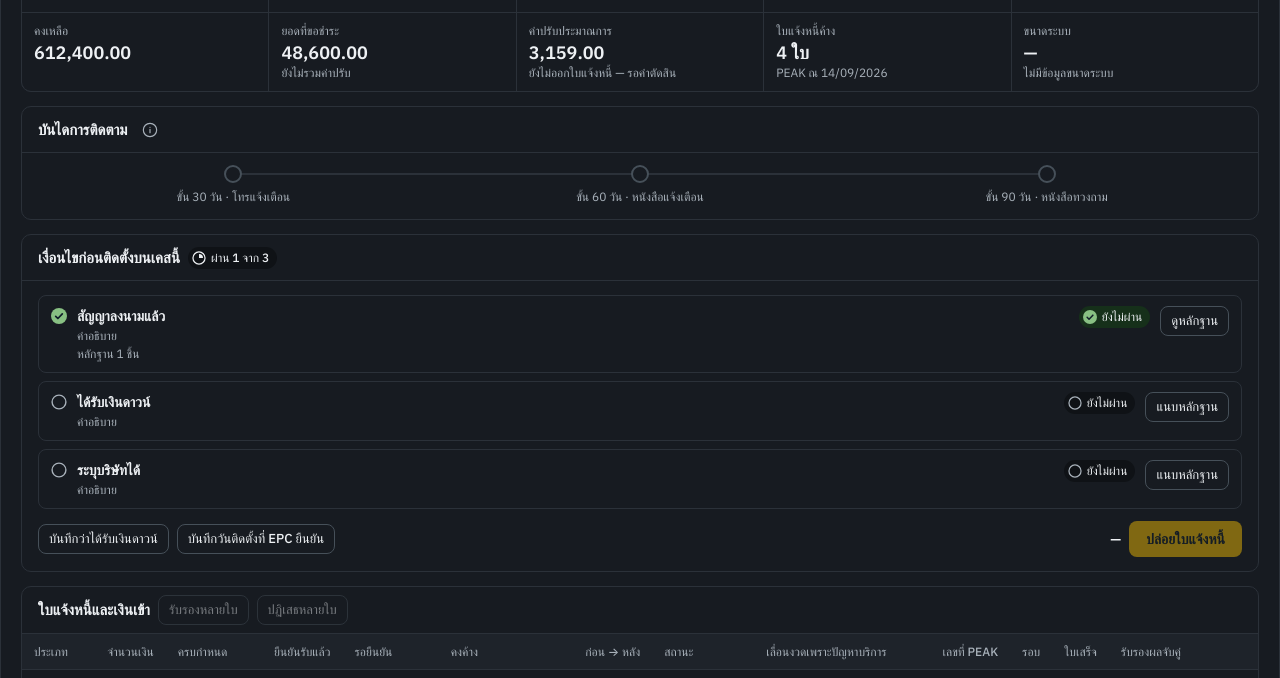
the pre-install card on the customer case › opens a condition's evidence LIST from ดูหลักฐาน (it used to open the attach form)
(page scrolled)
Expected: the text "สัญญาลงนามครบทั้งสองฝ่าย" is not shown
Click the button "ดูหลักฐาน": (1195, 321) 1160,306 -> 1229,336
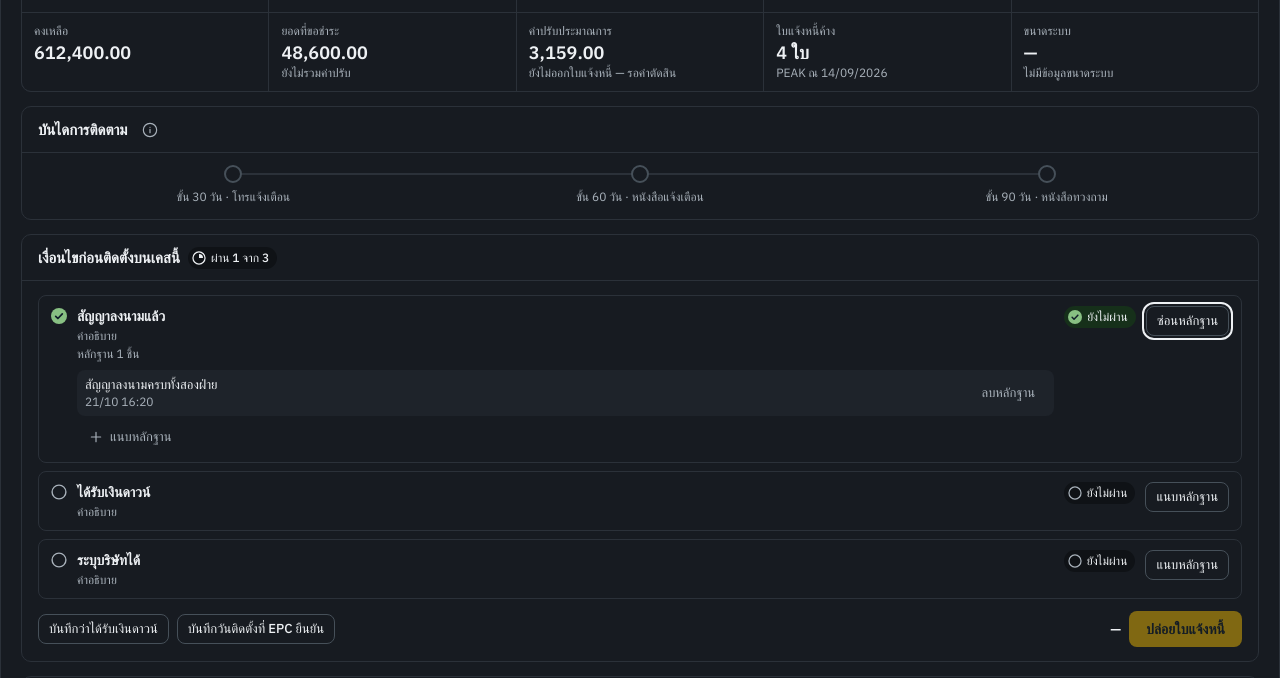
Result: the text "สัญญาลงนามครบทั้งสองฝ่าย" is shown at 85,376 -> 218,393
Result: the button "ซ่อนหลักฐาน" is expanded at 1146,306 -> 1229,336
